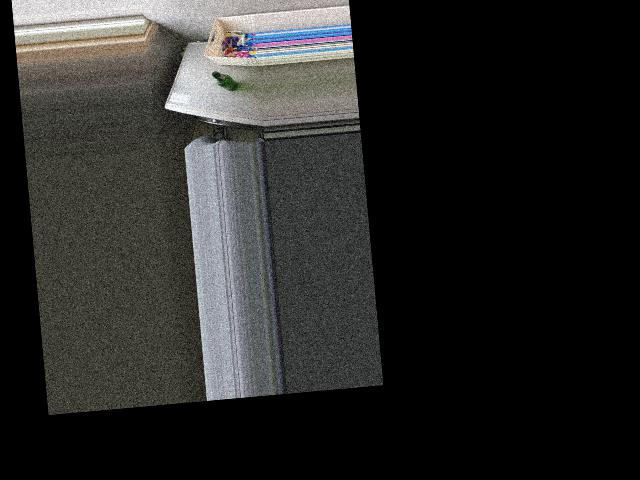beer: (211, 70, 238, 92)
